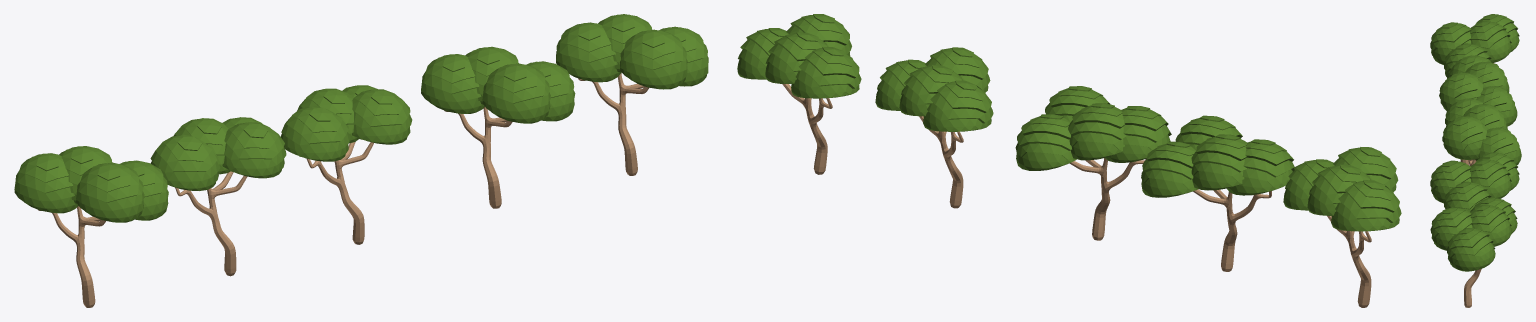
File: tree.glb
The picture shows the model from 3 angles, left to right: view 1: azimuth 30°, elevation 25°; view 2: azimuth 150°, elevation 25°; view 3: azimuth 270°, elevation 25°; orthographic projection. The views are drawn at different scales.
Visible parts, largest first — view 1: Icosphere.001, Cube.004; view 2: Icosphere.001, Cube.004; view 3: Icosphere.001, Cube.004.
Part boxes in pixels (bbox=[...]): Icosphere.001: bbox=[14, 14, 708, 222]; Cube.004: bbox=[38, 73, 649, 307]; Icosphere.001: bbox=[737, 14, 1401, 231]; Cube.004: bbox=[782, 84, 1371, 307]; Icosphere.001: bbox=[1430, 14, 1521, 271]; Cube.004: bbox=[1460, 63, 1494, 307].
Bounding box in the file's own units: 52.62 × 11.06 × 8.94.
Materials: 2 (2 with a texture image).
